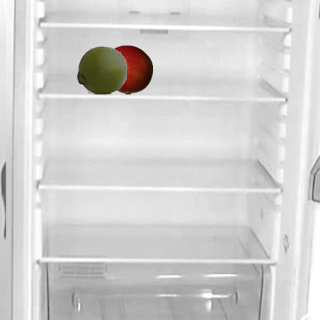Apple Braeburn: (102, 44, 152, 94)
Grape White 4: (76, 44, 126, 94)
